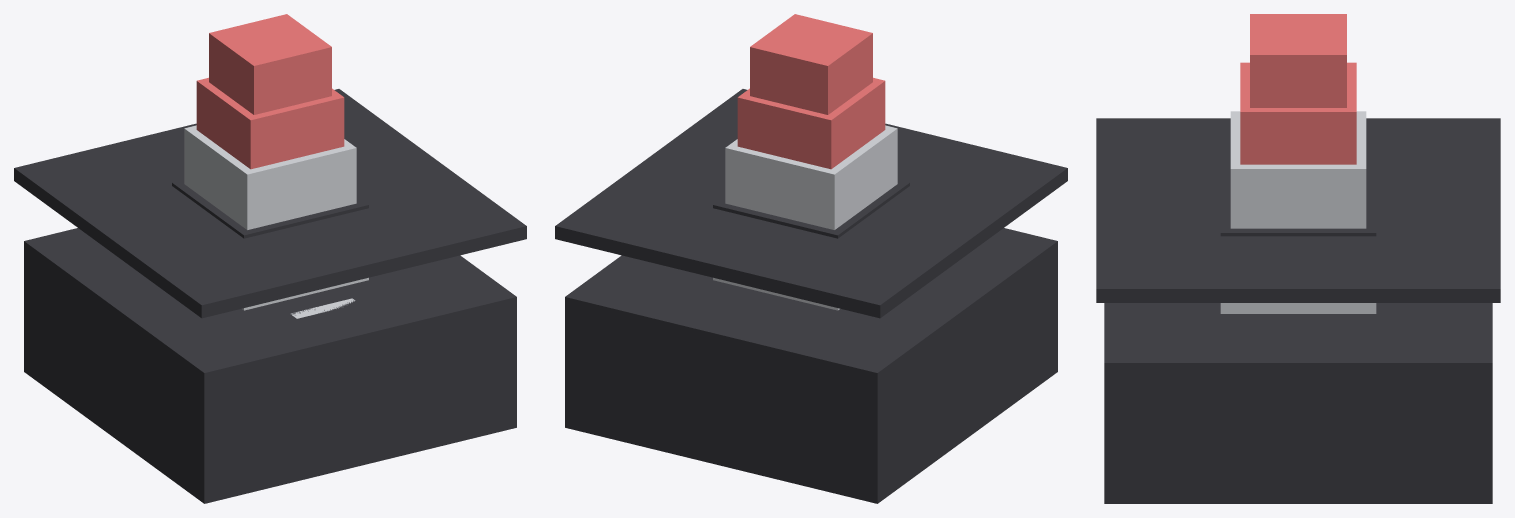
File: joystick.gltf
The picture shows the model from 3 angles, left to right: view 1: azimuth 30°, elevation 25°; view 2: azimuth 150°, elevation 25°; view 3: azimuth 270°, elevation 25°; orthographic projection. The views are drawn at different scales.
Visible parts, largest first — view 1: joystick; view 2: joystick; view 3: joystick.
Boxes of the visible parts, x1,y1,x2,y2 form: joystick: (14,14,526,503); joystick: (555,14,1067,503); joystick: (1096,14,1500,503).
Size of the model in its own units: 0.104 by 0.1115 by 0.104.
